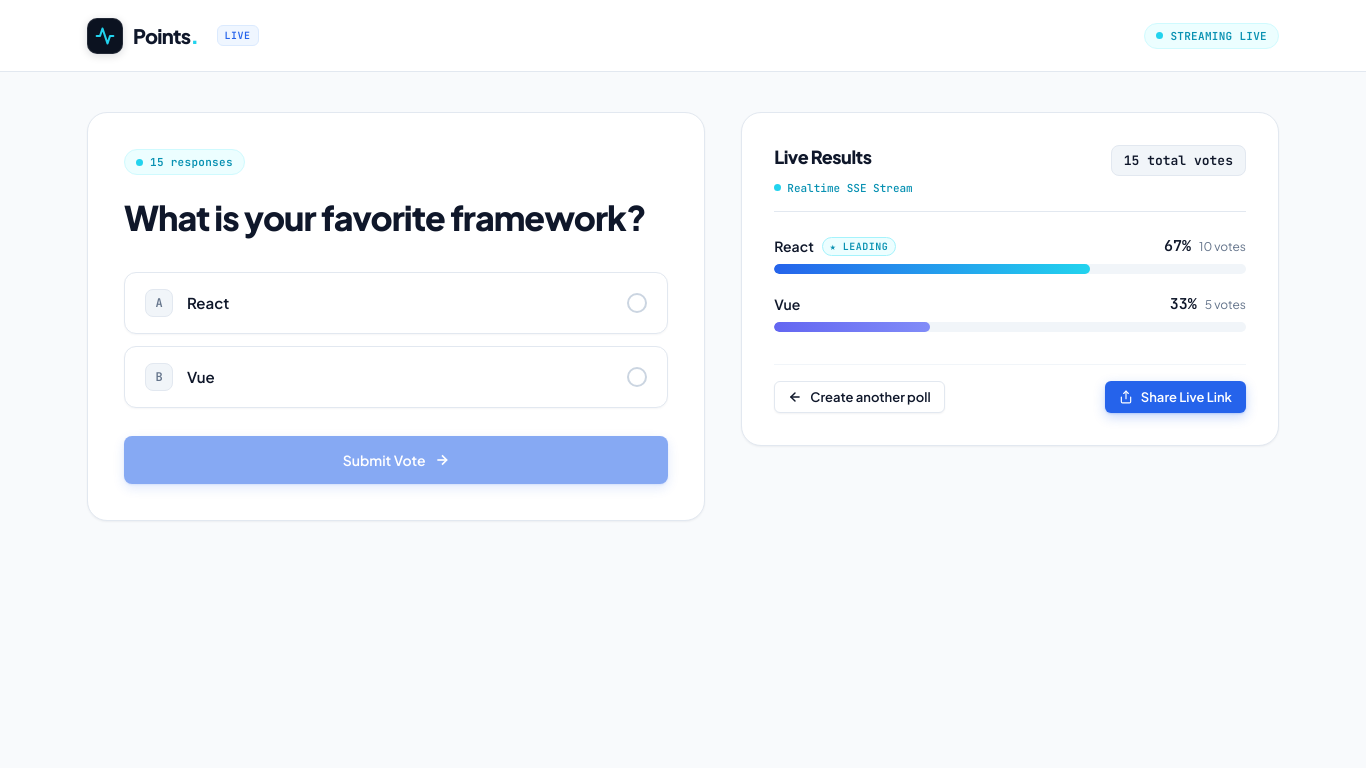
Test case: Share Live Link Functionality › Test Case 6: displays error message when both share and clipboard fail
The width and height of the screenshot is (1366, 768).
Click the button "Share Live Link" at (1175, 397), box top-left (1105, 381), bottom-right (1246, 413)
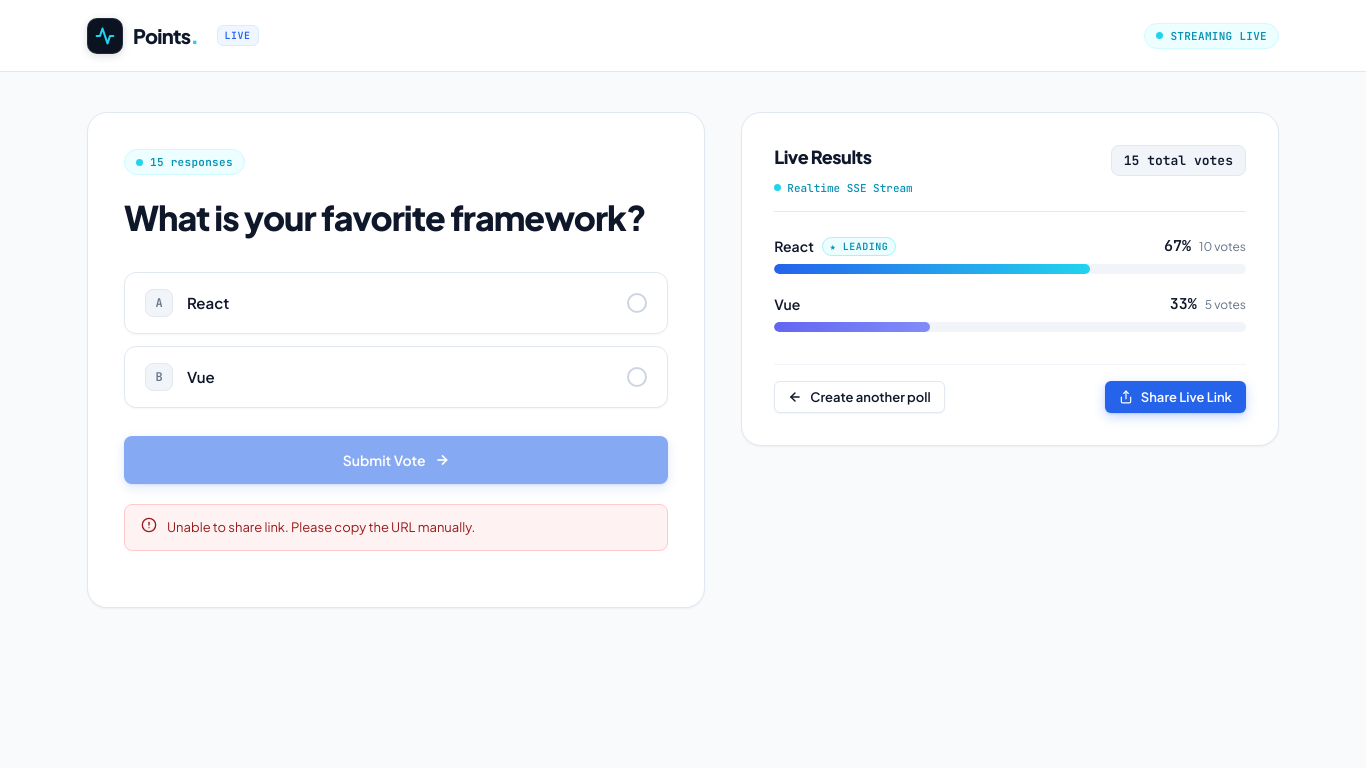
Now the text "Unable to share link. Please copy the URL manually." is shown, box top-left (167, 518), bottom-right (475, 537)
